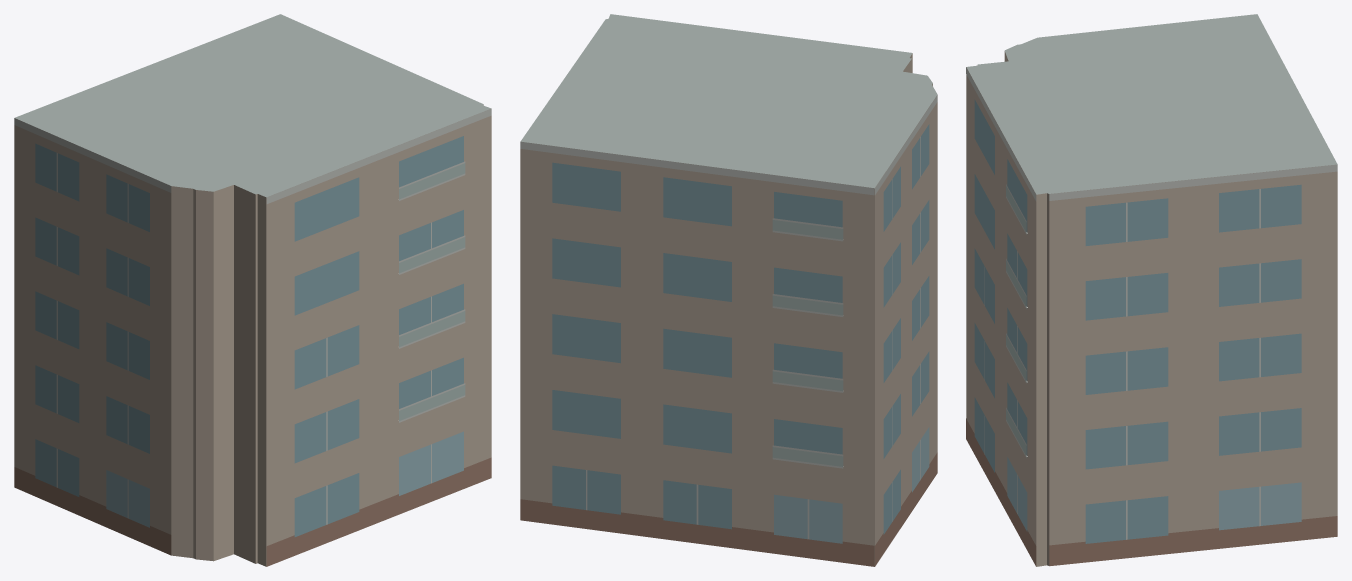
Rendered from survey-upis-32812075.glb.
3 views of the same model, side by side, from view 1: azimuth 30°, elevation 25°; view 2: azimuth 150°, elevation 25°; view 3: azimuth 270°, elevation 25° (orthographic). The views are drawn at different scales.
Visible parts, largest first — view 1: survey-upis-32812075.tmp; view 2: survey-upis-32812075.tmp; view 3: survey-upis-32812075.tmp.
Boxes of the visible parts, x1,y1,x2,y2 form: survey-upis-32812075.tmp: [14, 14, 491, 566]; survey-upis-32812075.tmp: [520, 14, 937, 566]; survey-upis-32812075.tmp: [966, 14, 1337, 566].
Size of the model in its own units: 13.33 by 12.8 by 11.59.
